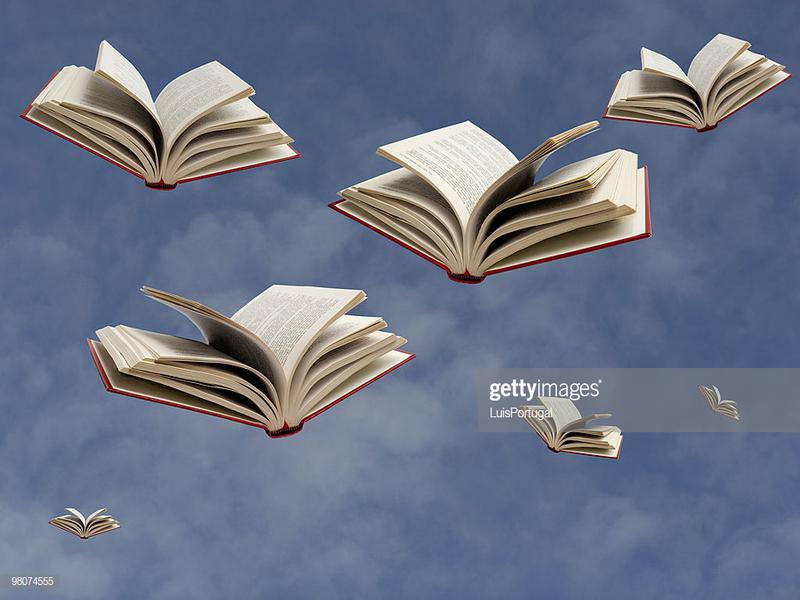book: (79, 279, 421, 442)
